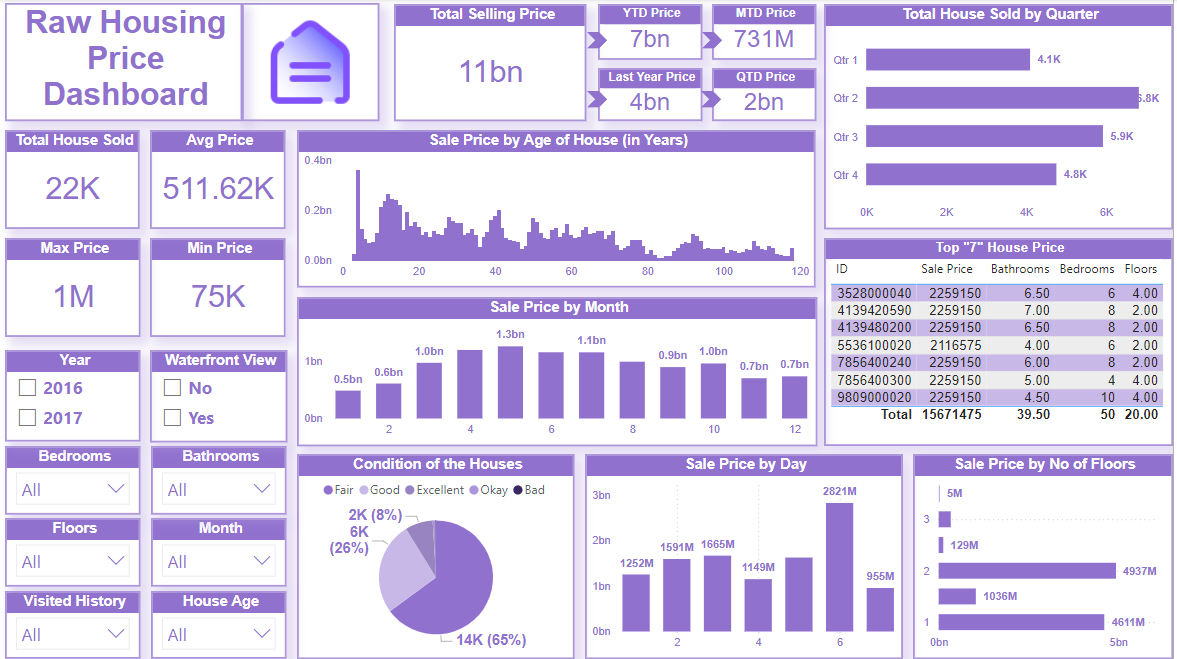

Layout of this report page (visuals, bound fields, positions):
{"tool":"powerbi","page":{"name":"Page 1","canvas":[1280,720],"ordinal":0},"visuals":[{"type":"card","title":"Total House Sold ","fields":{"Values":["Measure Table.Total House Sold"]},"box":[5.2,143.2,148.4,108.4],"z":0},{"type":"card","title":"YTD Price","fields":{"Values":["Measure Table.YTD Price"]},"box":[652.9,5.2,113.5,60.6],"z":1000},{"type":"card","title":"MTD Price","fields":{"Values":["Measure Table.MTD Price"]},"box":[776.8,5.2,113.5,60.6],"z":2000},{"type":"card","title":"QTD Price","fields":{"Values":["Measure Table.QTD"]},"box":[776.8,74.8,113.5,58.1],"z":4000},{"type":"card","title":"Last Year Price","fields":{"Values":["Measure Table.Same Year Last Year"]},"box":[652.9,74.8,113.5,58.1],"z":5000},{"type":"card","title":"Total Selling Price","fields":{"Values":["Sum(Raw_Housing_Prices.Sale Price)"]},"box":[429.7,5.2,210.3,127.7],"z":6000},{"type":"card","title":"Max Price","fields":{"Values":["Measure Table.Max Seling Price"]},"box":[5.2,260.6,148.4,108.4],"z":7000},{"type":"card","title":"Min Price","fields":{"Values":["Measure Table.Min Seling Price"]},"box":[163.9,260.6,148.4,108.4],"z":8000},{"type":"actionButton","title":"Raw Housing Price Dashboard ","box":[5.2,3.9,259.4,129],"z":9000},{"type":"image","box":[264.5,3.9,149.7,129],"z":11000},{"type":"card","title":"Avg Price","fields":{"Values":["Avg(Raw_Housing_Prices.Sale Price)"]},"box":[163.9,143.2,148.4,108.4],"z":11001},{"type":"shape","box":[640,36.1,21.9,18.1],"z":11003},{"type":"shape","box":[640,100.6,21.9,18.1],"z":11005},{"type":"shape","box":[766.5,36.1,21.9,18.1],"z":11006},{"type":"shape","box":[765.2,100.6,21.9,18.1],"z":11007},{"type":"slicer","title":"Month","fields":{"Values":["Raw_Housing_Prices.Monthname"]},"box":[164.8,566.9,148.4,75.3],"z":11008},{"type":"slicer","title":"Bathrooms","fields":{"Values":["Raw_Housing_Prices.No of Bathrooms"]},"box":[164.8,487.7,148.4,75.3],"z":11009},{"type":"slicer","title":"Bedrooms","fields":{"Values":["Raw_Housing_Prices.No of Bedrooms"]},"box":[5.5,487.4,148.4,75.3],"z":11010},{"type":"slicer","title":"Floors","fields":{"Values":["Raw_Housing_Prices.No of Floors"]},"box":[5.5,566.7,148.4,75.3],"z":11011},{"type":"slicer","title":"Waterfront View","fields":{"Values":["Raw_Housing_Prices.Waterfront View"]},"box":[163.9,383.2,149.7,100.6],"z":11012},{"type":"slicer","title":"Year","fields":{"Values":["Raw_Housing_Prices.Year"]},"box":[5.5,383,148.4,100.4],"z":11013},{"type":"slicer","title":"Visited History","fields":{"Values":["Raw_Housing_Prices.No of Times Visited"]},"box":[5.5,645.8,148.4,74.2],"z":11014},{"type":"slicer","title":"House Age","fields":{"Values":["Raw_Housing_Prices.Age of House (in Years)"]},"box":[164.8,645.8,148.4,74.2],"z":11015},{"type":"barChart","fields":{"Category":["Raw_Housing_Prices.Date House was Sold.Variation.Date Hierarchy.Quarter"],"Y":["Measure Table.Total House Sold"]},"box":[899.2,5.5,380.8,245.5],"z":11016},{"type":"tableEx","title":"Top \"7\" House Price","fields":{"Values":["Raw_Housing_Prices.ID","Sum(Raw_Housing_Prices.Sale Price)","Sum(Raw_Housing_Prices.No of Bathrooms)","Sum(Raw_Housing_Prices.No of Bedrooms)","Sum(Raw_Housing_Prices.No of Floors)"]},"box":[899.2,260.8,380.8,227],"z":11017},{"type":"clusteredColumnChart","title":"Sale Price by Month","fields":{"Category":["Raw_Housing_Prices.Month"],"Y":["Sum(Raw_Housing_Prices.Sale Price)"]},"box":[323.9,325.2,567.7,162.6],"z":11018},{"type":"pieChart","title":"Condition of the Houses","fields":{"Category":["Raw_Housing_Prices.Condition of the House"],"Y":["Measure Table.Total House Sold"]},"box":[324.1,496.5,303.4,223.7],"z":11019},{"type":"columnChart","title":"Sale Price by Day","fields":{"Y":["Sum(Raw_Housing_Prices.Sale Price)"],"Category":["Raw_Housing_Prices.Day"]},"box":[640.5,496.5,347,223.7],"z":11020},{"type":"columnChart","title":"Sale Price by Age of House (in Years)","fields":{"Category":["Raw_Housing_Prices.Age of House (in Years)"],"Y":["Sum(Raw_Housing_Prices.Sale Price)"]},"box":[324.1,142.9,566.3,172.4],"z":11021},{"type":"barChart","title":"Sale Price by No of Floors","fields":{"Y":["Sum(Raw_Housing_Prices.Sale Price)"],"Category":["Raw_Housing_Prices.No of Floors"]},"box":[996.3,496.5,283.7,223.7],"z":11022}]}

Visuals, with their boxes in screenshot pixels (x1, y1, x2, y2), scaled from the page's 1280x720 canvas onto the 1177x659 screenshot:
"Total House Sold " card: bbox=[5, 131, 141, 230]
"YTD Price" card: bbox=[600, 5, 705, 60]
"MTD Price" card: bbox=[714, 5, 819, 60]
"QTD Price" card: bbox=[714, 68, 819, 122]
"Last Year Price" card: bbox=[600, 68, 705, 122]
"Total Selling Price" card: bbox=[395, 5, 588, 122]
"Max Price" card: bbox=[5, 239, 141, 338]
"Min Price" card: bbox=[151, 239, 287, 338]
"Raw Housing Price Dashboard " actionButton: bbox=[5, 4, 243, 122]
image: bbox=[243, 4, 381, 122]
"Avg Price" card: bbox=[151, 131, 287, 230]
shape: bbox=[588, 33, 609, 50]
shape: bbox=[588, 92, 609, 109]
shape: bbox=[705, 33, 725, 50]
shape: bbox=[704, 92, 724, 109]
"Month" slicer: bbox=[152, 519, 288, 588]
"Bathrooms" slicer: bbox=[152, 446, 288, 515]
"Bedrooms" slicer: bbox=[5, 446, 142, 515]
"Floors" slicer: bbox=[5, 519, 142, 588]
"Waterfront View" slicer: bbox=[151, 351, 288, 443]
"Year" slicer: bbox=[5, 351, 142, 442]
"Visited History" slicer: bbox=[5, 591, 142, 658]
"House Age" slicer: bbox=[152, 591, 288, 658]
barChart - Raw_Housing_Prices.Date House was Sold.Variation.Date Hierarchy.Quarter x Measure Table.Total House Sold: bbox=[827, 5, 1176, 230]
"Top "7" House Price" tableEx: bbox=[827, 239, 1176, 446]
"Sale Price by Month" clusteredColumnChart: bbox=[298, 298, 820, 446]
"Condition of the Houses" pieChart: bbox=[298, 454, 577, 658]
"Sale Price by Day" columnChart: bbox=[589, 454, 908, 658]
"Sale Price by Age of House (in Years)" columnChart: bbox=[298, 131, 819, 289]
"Sale Price by No of Floors" barChart: bbox=[916, 454, 1176, 658]
